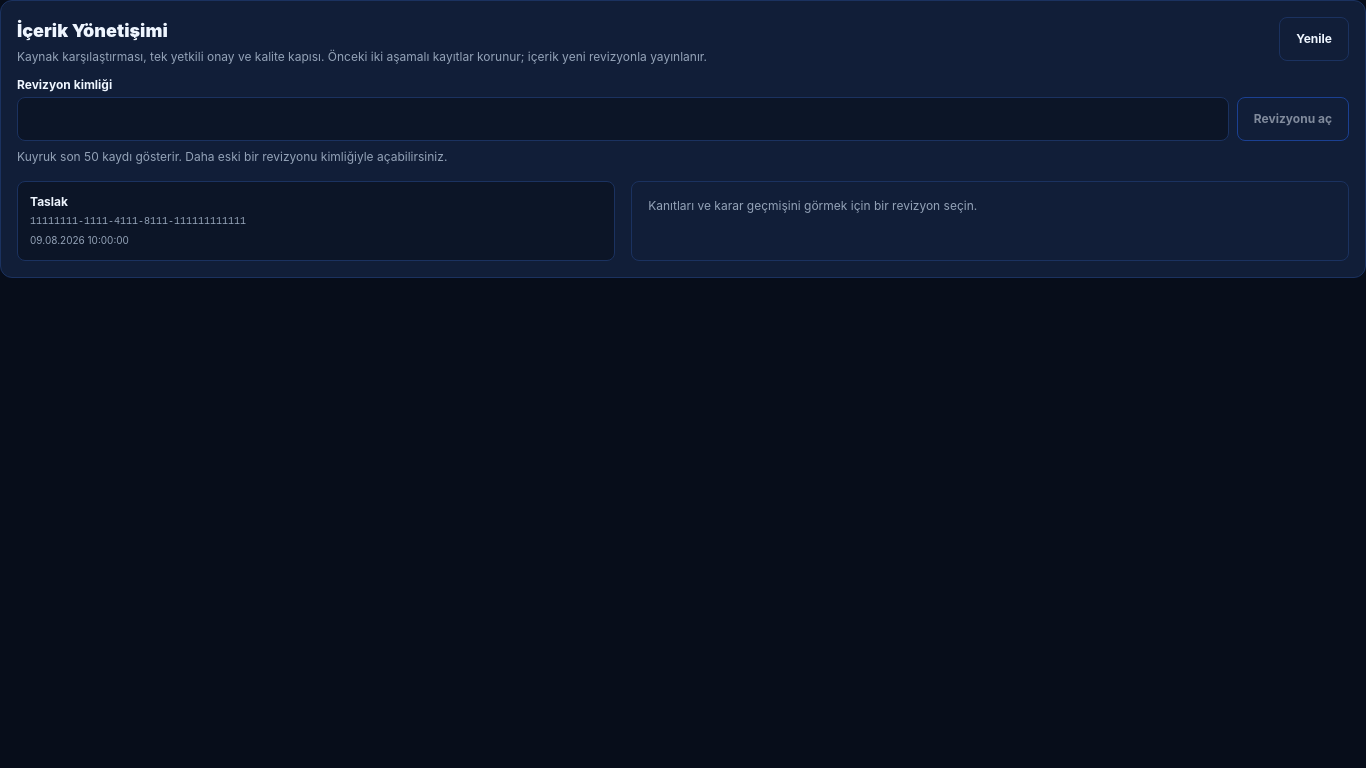
Test: ContentGovernancePanel › requests only general outcomes for a mapping-pending general revision
Click the button "11111111-1111-4111-8111-111111111111".
click(49, 202)  # box [17, 181, 615, 261]
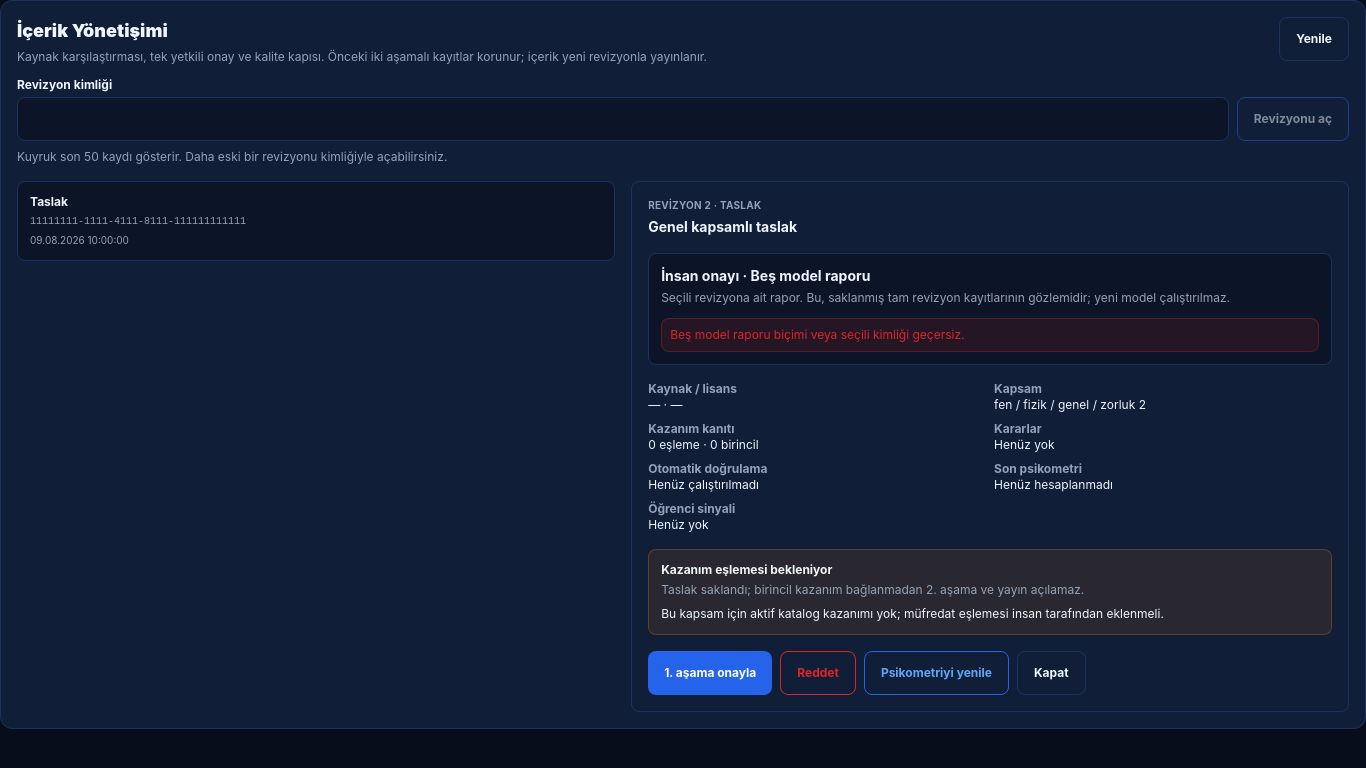
Expected: the text "Bu kapsam için aktif katalog kazanımı yok" is shown, [661, 606, 1164, 621]
